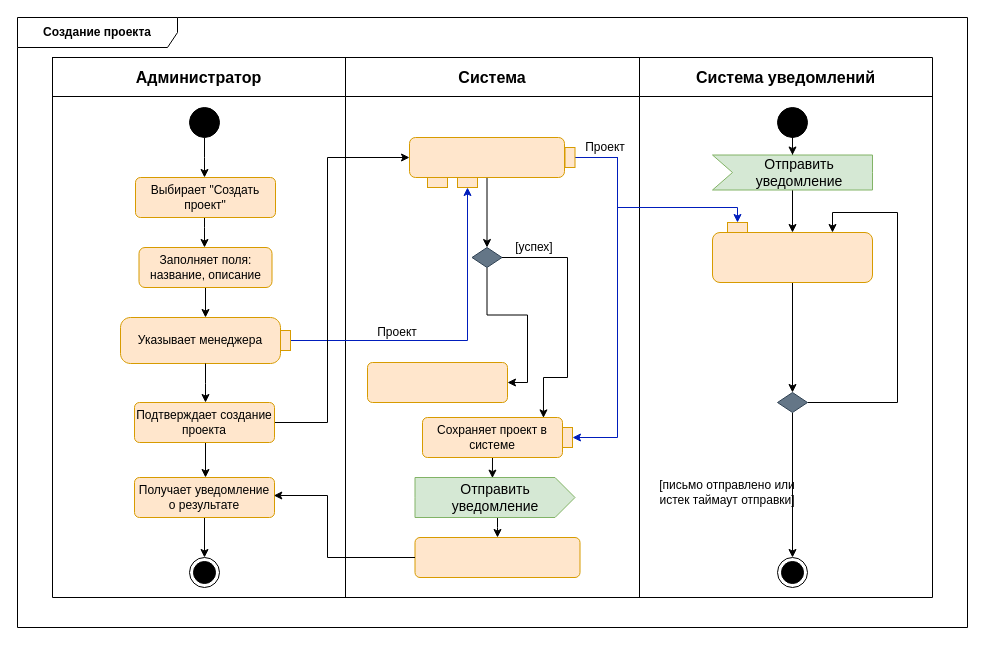
This 985x645 diagram has some shape labels left out. Each missing label, with the centre of its shape:
Отправляет менеджеру письмо с информацией о проекте: point 792,257
Проводит валидацию полей: point 486,157
Уведомляет об успешном создании проекта: point 497,557
Уведомляет, что поля невалидны: point 437,382
